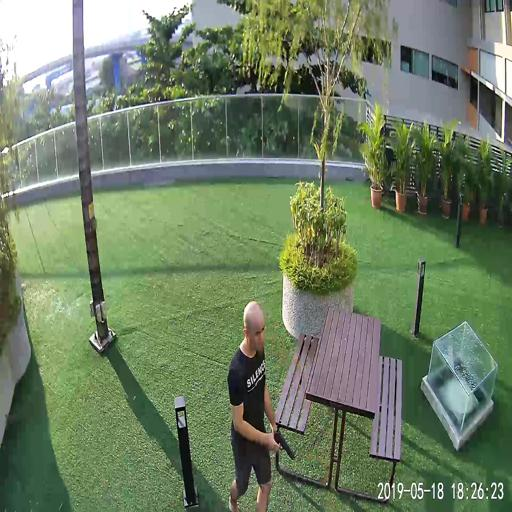pistol: (269, 429, 294, 458)
